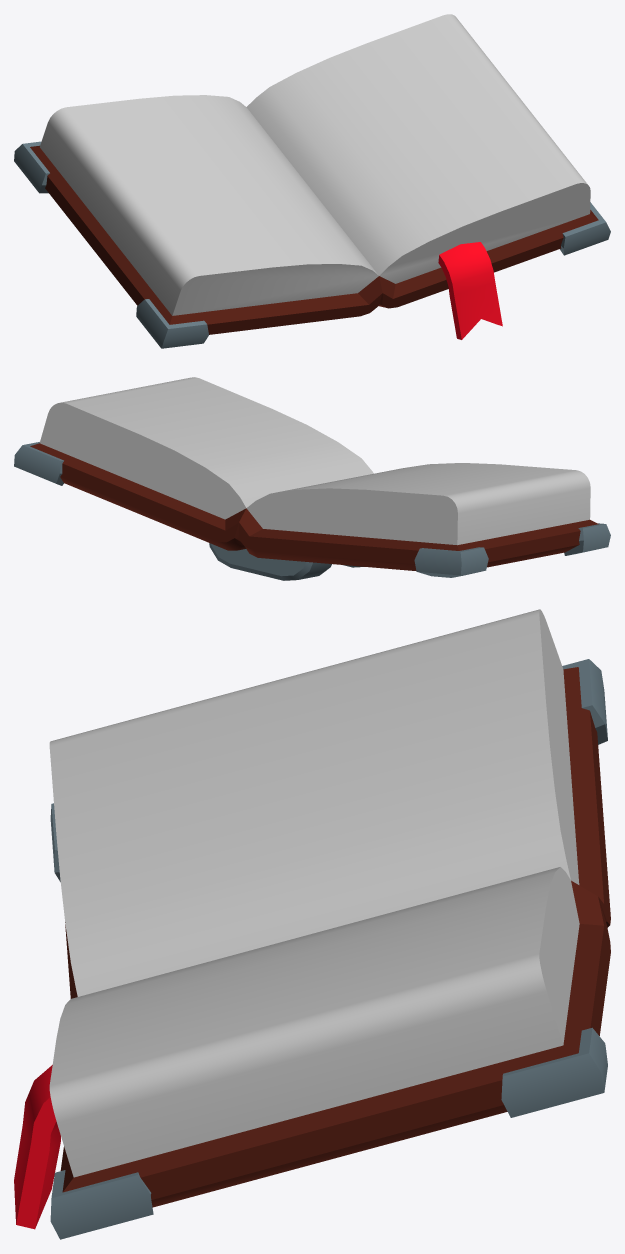
File: spellBook.obj
3 views of the same model, one above another, from view 1: azimuth 30°, elevation 25°; view 2: azimuth 150°, elevation 25°; view 3: azimuth 270°, elevation 25° (orthographic). The views are drawn at different scales.
Visible parts, largest first — view 1: spellBook_Cube.3454; view 2: spellBook_Cube.3454; view 3: spellBook_Cube.3454.
Boxes of the visible parts, box(x1,y1,x2,y2) form: spellBook_Cube.3454: box(14, 14, 610, 348); spellBook_Cube.3454: box(14, 377, 610, 580); spellBook_Cube.3454: box(14, 609, 610, 1239).
Bounding box in the file's own units: 0.7796 × 0.3222 × 0.4888.
